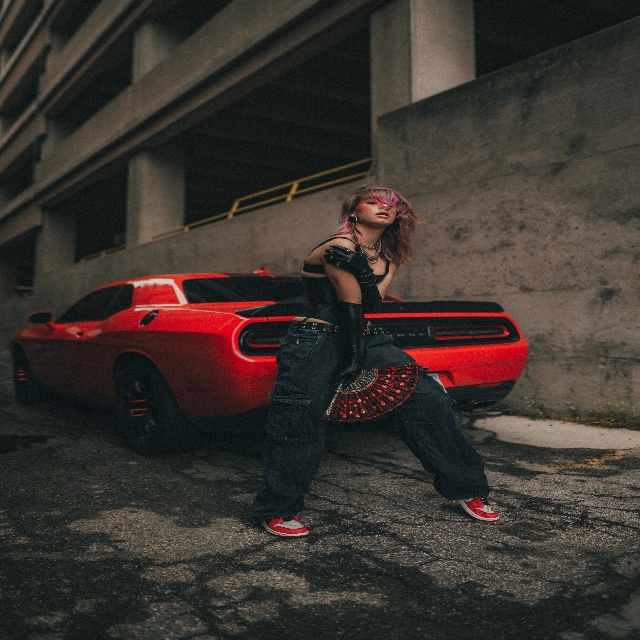Guantes: (323, 244, 382, 314), (329, 294, 363, 388)
